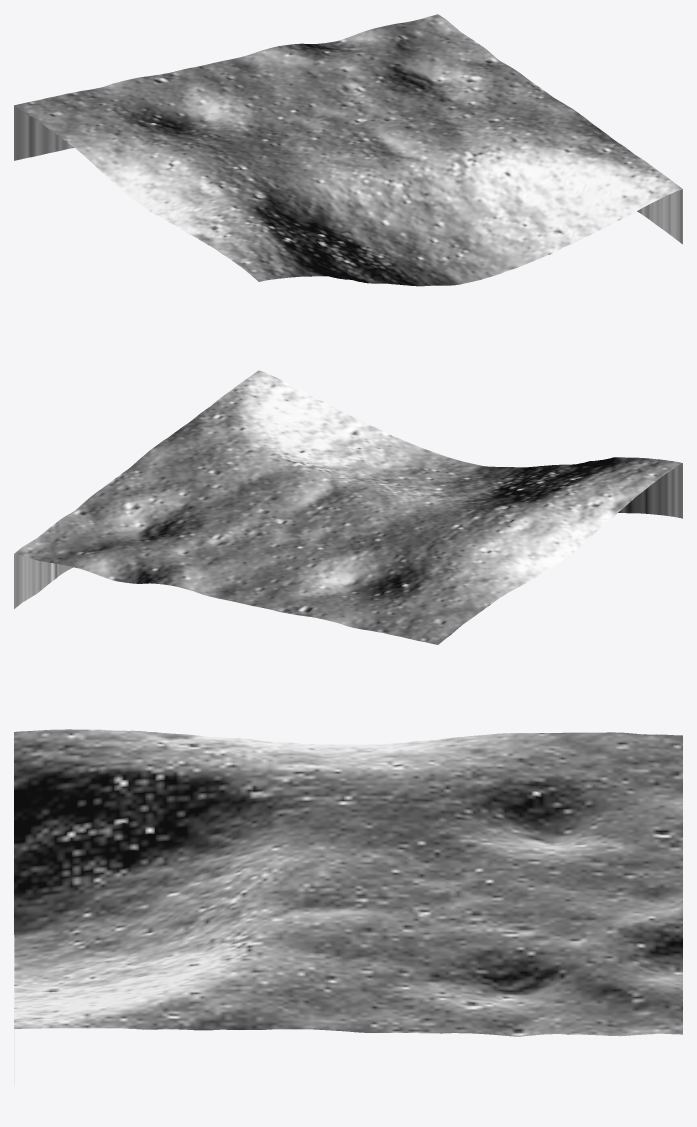
3 renders of one model, top to bottom at view 1: azimuth 30°, elevation 25°; view 2: azimuth 150°, elevation 25°; view 3: azimuth 270°, elevation 25°, orthographic. The views are drawn at different scales.
Size of the model in its own units: 639 by 159 by 639.
1 material, 1 textured.
